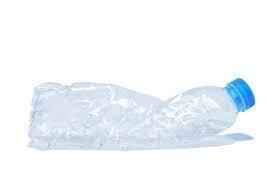plastic: (22, 74, 257, 156)
